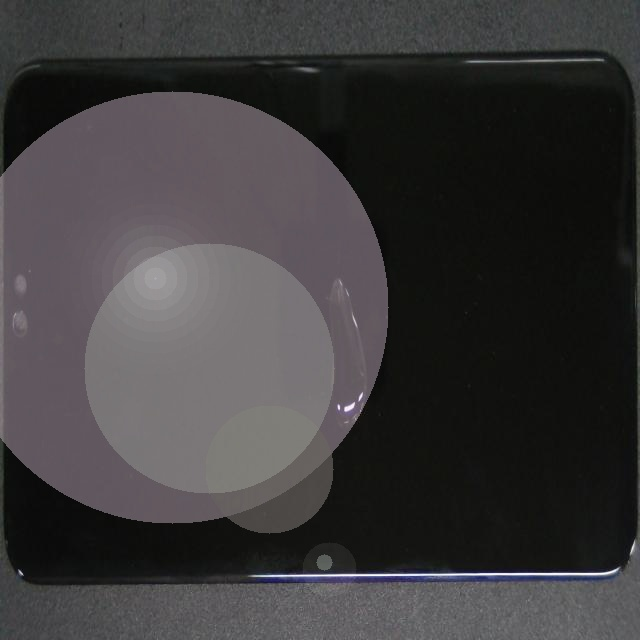oil: (193, 225, 551, 553)
